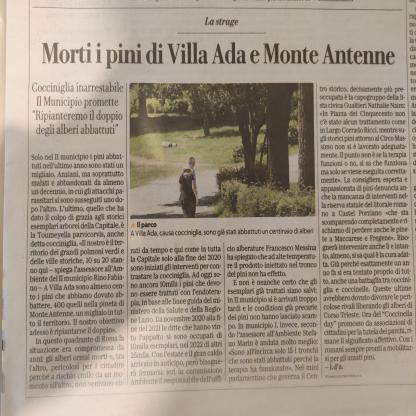immagine: (128, 81, 318, 219)
testo_col: (317, 84, 414, 361), (25, 146, 127, 394), (127, 244, 226, 389), (224, 242, 321, 384)
titolo: (34, 34, 399, 75)
